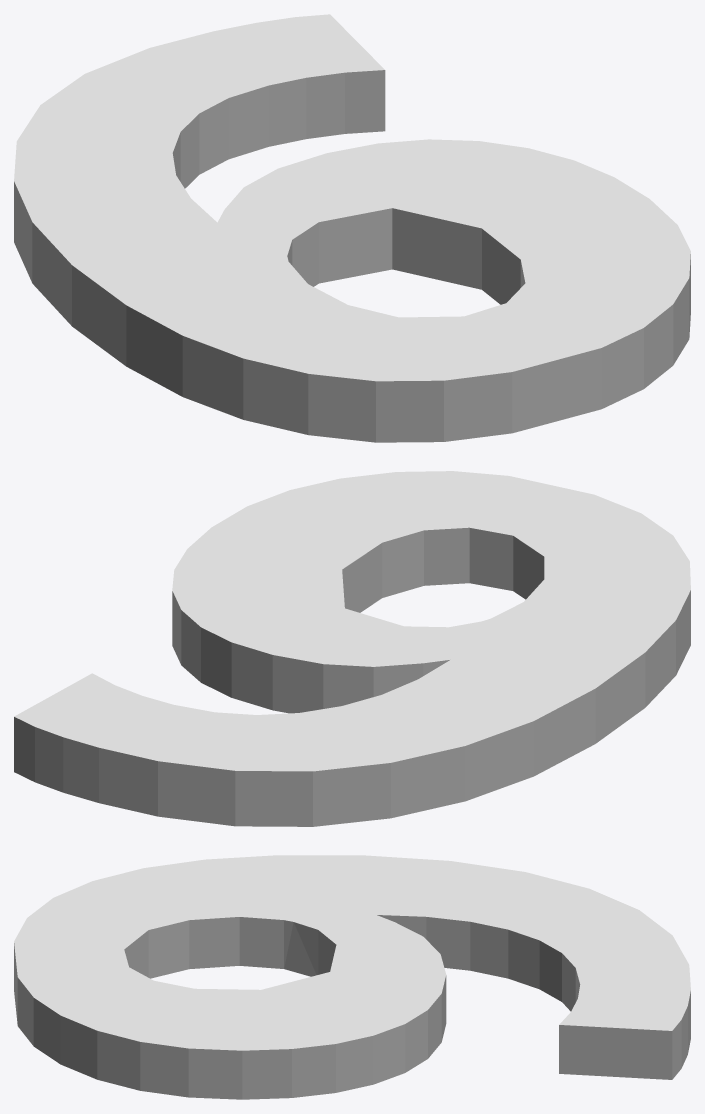
The model's file is shuzi06.FBX.
3 renders of one model, top to bottom at view 1: azimuth 30°, elevation 25°; view 2: azimuth 150°, elevation 25°; view 3: azimuth 270°, elevation 25°, orthographic. The views are drawn at different scales.
Visible parts, largest first — view 1: shuzi06; view 2: shuzi06; view 3: shuzi06.
Part boxes in pixels (x1,y1,x2,y2): shuzi06: (14, 14, 690, 442); shuzi06: (14, 471, 690, 826); shuzi06: (14, 855, 690, 1099).
Bounding box in the file's own units: 76.56 × 8.95 × 112.
